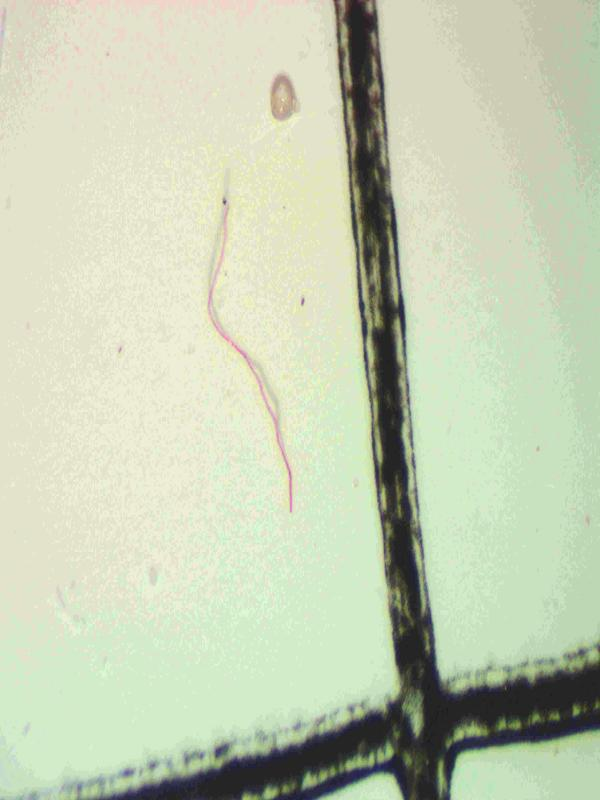microplastic: (2, 1, 598, 798)
